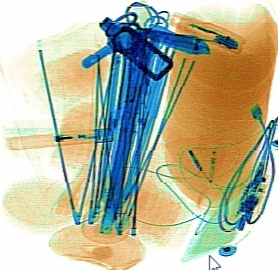lighter: (6, 126, 113, 150)
